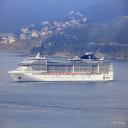cruises: (8, 51, 116, 84)
